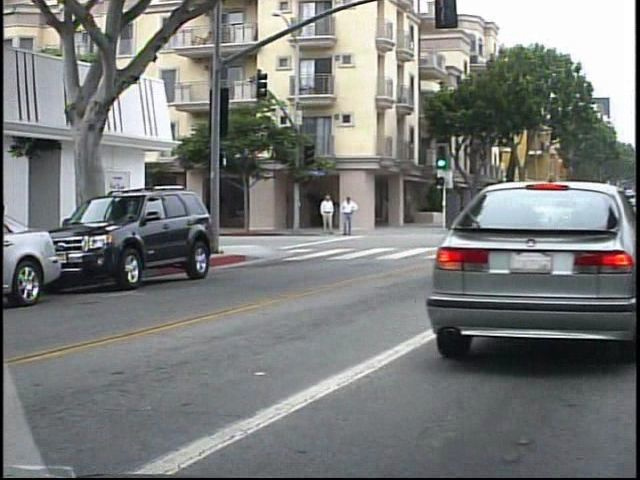person: (336, 193, 356, 238), (317, 192, 336, 238)
